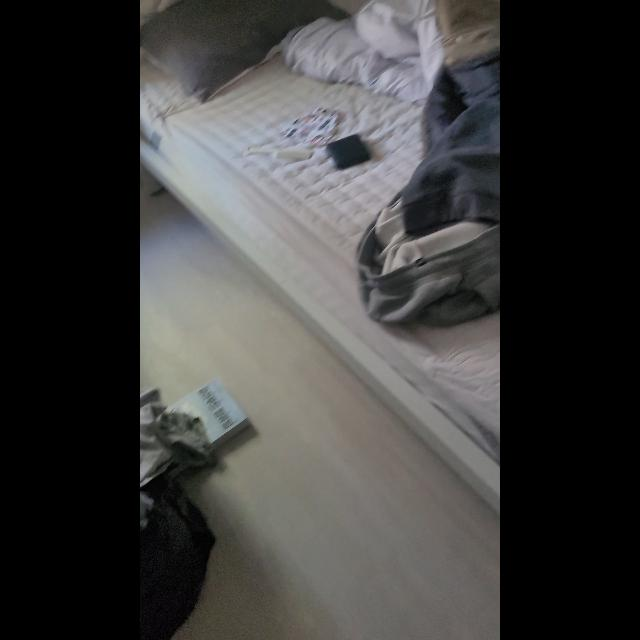COMB: (248, 146, 312, 160)
Glasses cleaning cloth: (286, 107, 340, 147)
WALLET: (324, 134, 370, 170)
